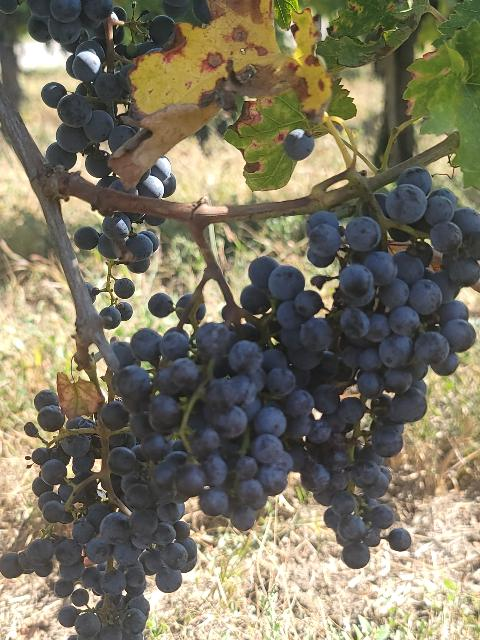grapes: (249, 169, 480, 568), (0, 374, 196, 640), (111, 300, 330, 529), (25, 0, 176, 199)
